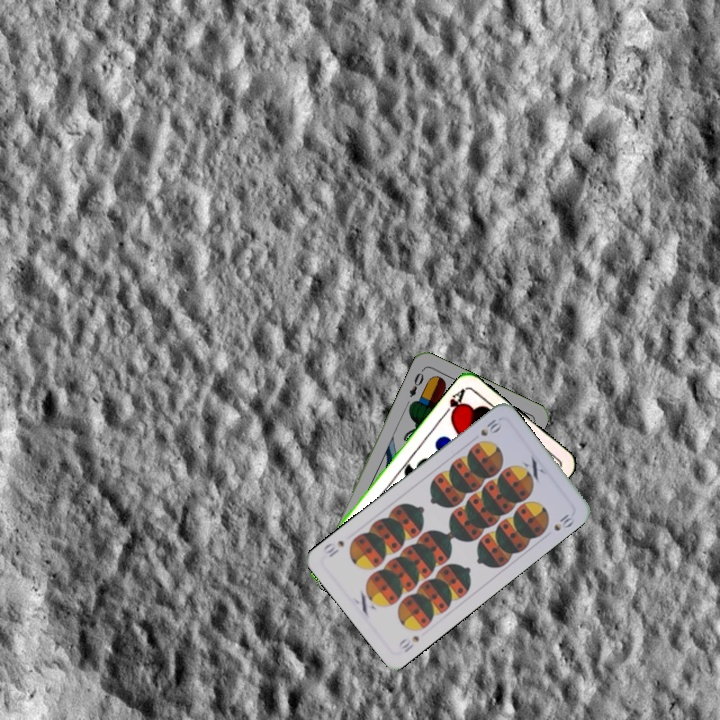EO: (405, 365, 426, 400)
HA: (438, 384, 468, 421)
S10: (476, 415, 504, 439), (394, 631, 422, 655)
